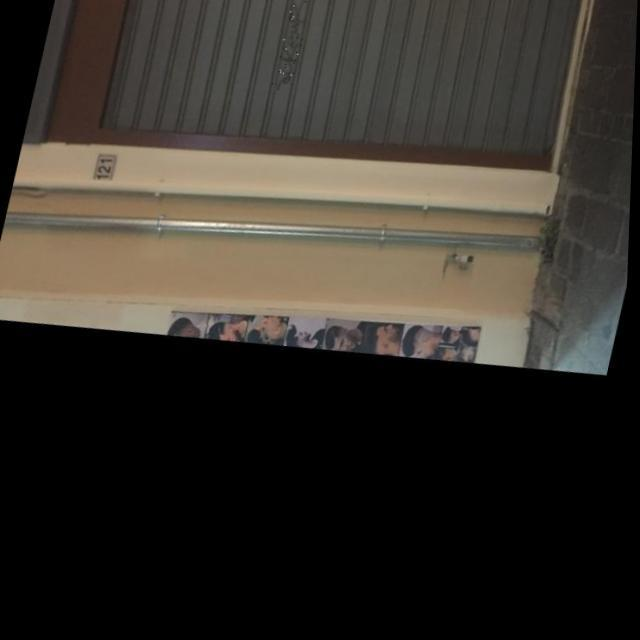-: (271, 0, 316, 100)
